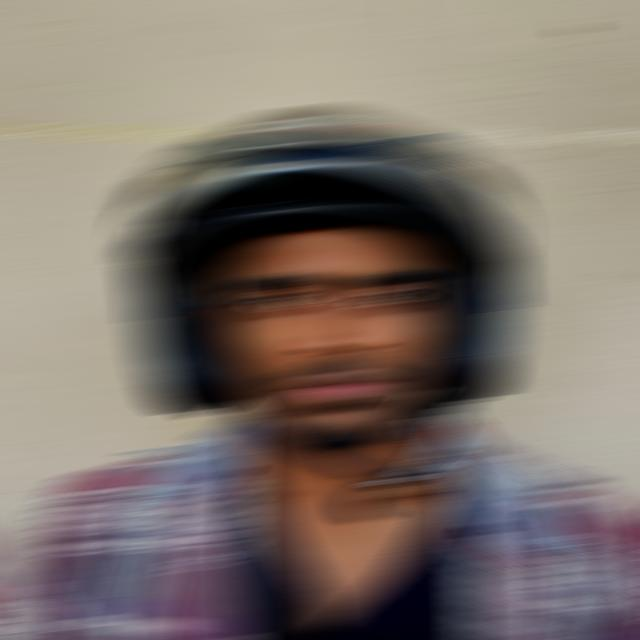With Helmet: (116, 105, 525, 416)
